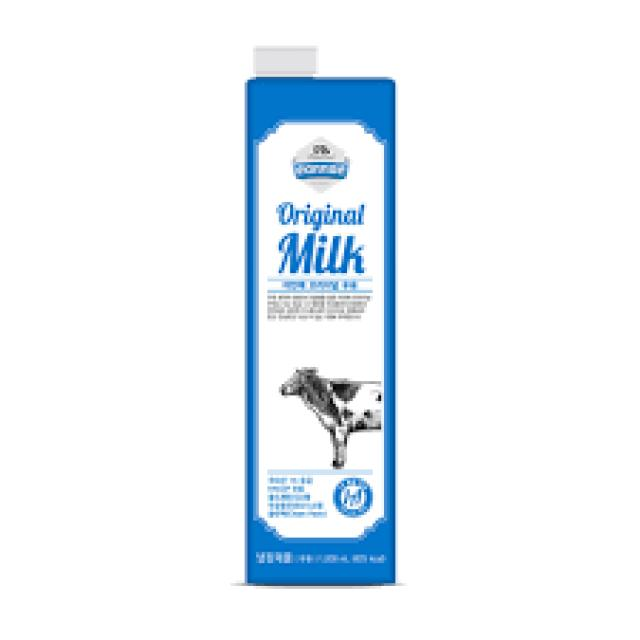milk: (228, 37, 414, 597)
